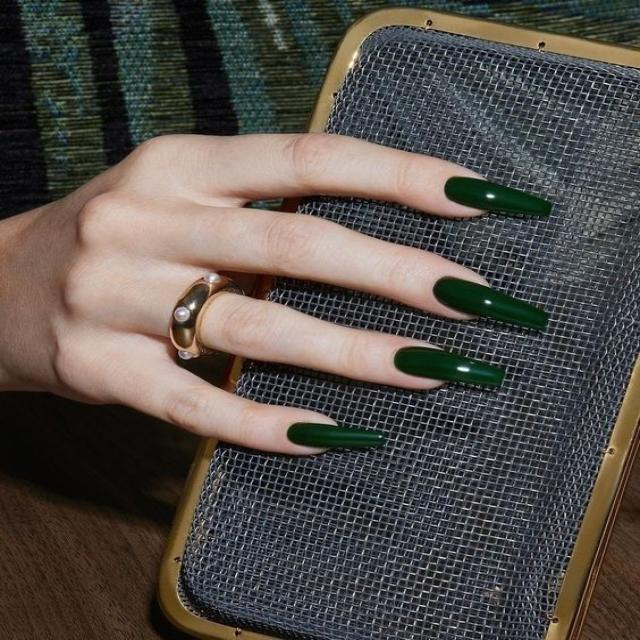Fingernail: (433, 276, 549, 331), (394, 346, 506, 387), (445, 175, 552, 215), (288, 422, 385, 448)
